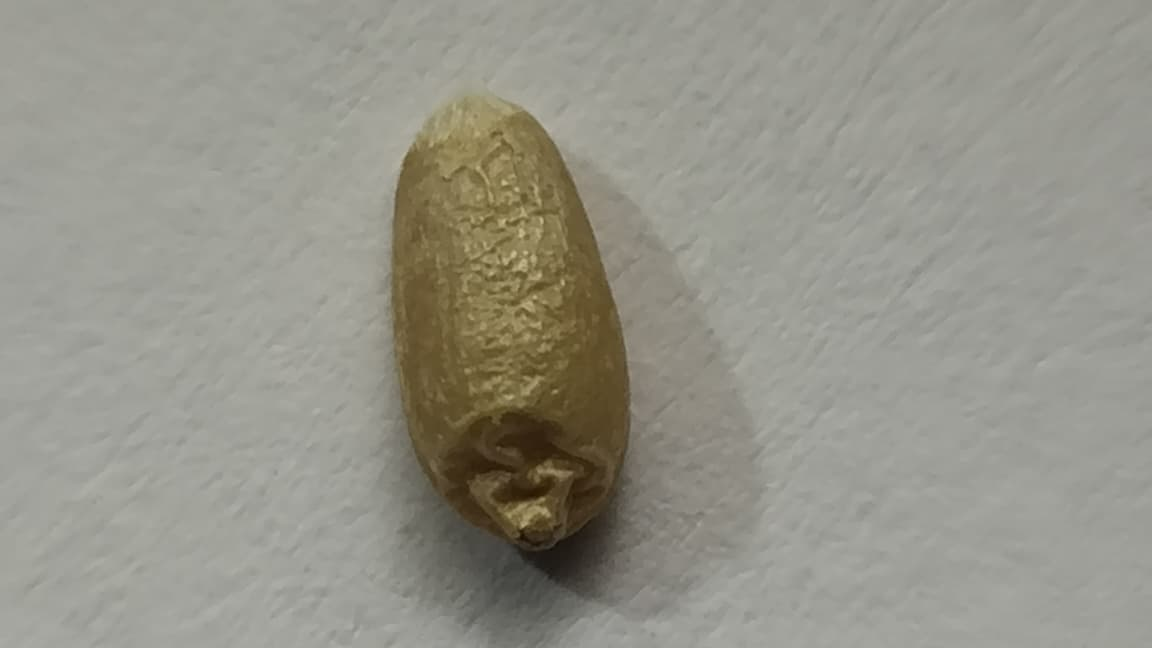healthy: (391, 84, 630, 548)
